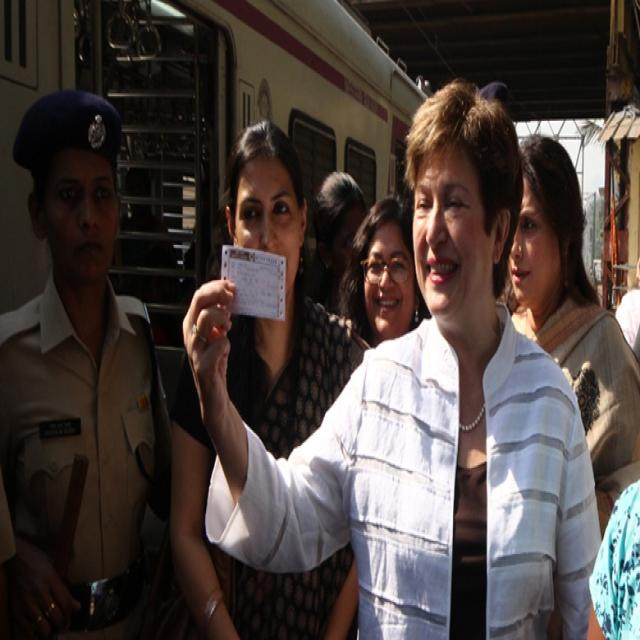body: (179, 80, 603, 640), (164, 116, 373, 640), (0, 90, 174, 640), (504, 131, 640, 540), (304, 162, 424, 345), (600, 267, 640, 364)
